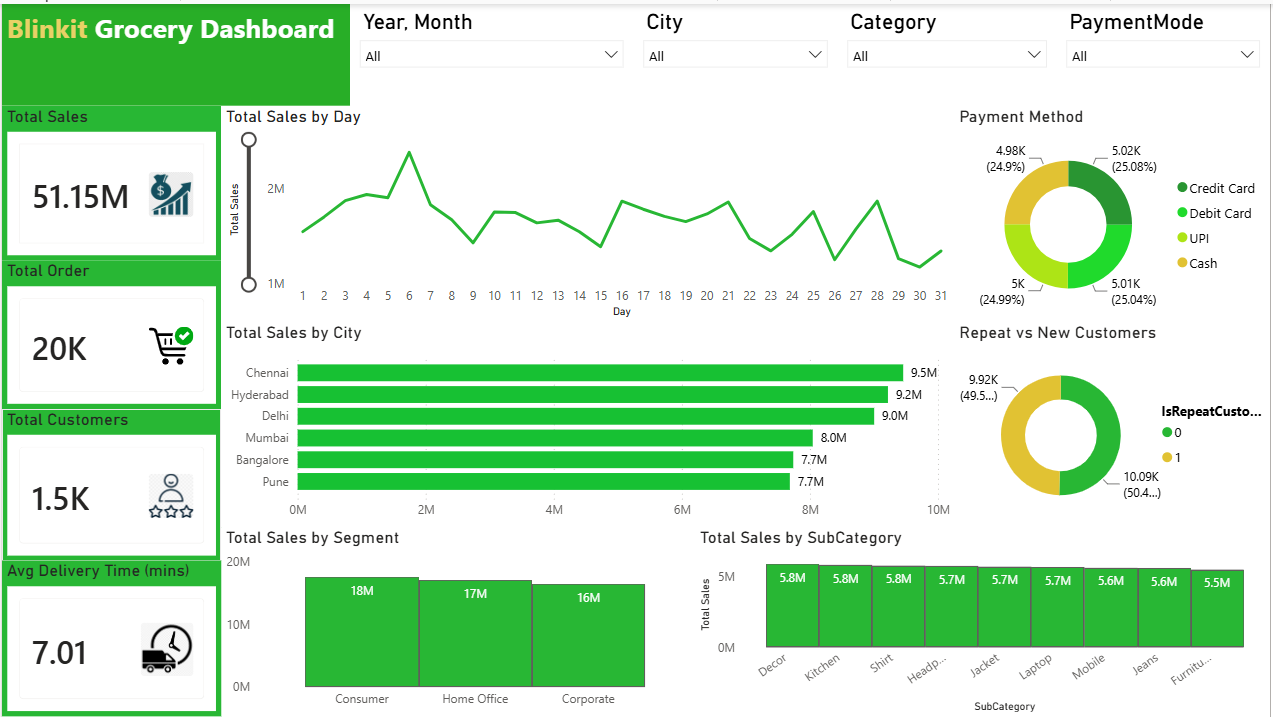

The page's visual inventory and layout, read from the dashboard file:
{"tool":"powerbi","page":{"name":"Page 1","canvas":[1280,720],"ordinal":0},"visuals":[{"type":"textbox","box":[0,0,351.3,103],"z":0},{"type":"slicer","fields":{"Values":["dim_date.Date.Variation.Date Hierarchy.Year","dim_date.Date.Variation.Date Hierarchy.Month"]},"box":[351.3,0,286.2,103],"z":1000},{"type":"slicer","fields":{"Values":["fact_orders.City"]},"box":[637.5,0,205.9,103],"z":2000},{"type":"slicer","fields":{"Values":["fact_orders.Category"]},"box":[843.4,0,221.1,103],"z":3000},{"type":"slicer","fields":{"Values":["fact_orders.PaymentMode"]},"box":[1064.5,0,215,103],"z":4000},{"type":"cardVisual","title":"Total Order","fields":{"Data":["CountNonNull(fact_orders.OrderID)"]},"box":[0,258.9,221.1,149.9],"z":5000},{"type":"cardVisual","title":"Total Customers","fields":{"Data":["CountNonNull(dim_customers.CustomerID)"]},"box":[0,408.8,221.1,152.9],"z":6000},{"type":"cardVisual","title":"Total Sales","fields":{"Data":["dim_customers.Total Sales"]},"box":[0,103,221.1,156],"z":7000},{"type":"lineChart","fields":{"Y":["dim_customers.Total Sales"],"Category":["dim_customers.Date.Variation.Date Hierarchy.Day"]},"box":[221.1,103,740.4,218],"z":8000},{"type":"clusteredColumnChart","fields":{"Y":["dim_customers.Total Sales"],"Category":["fact_orders.SubCategory"]},"box":[699.6,528.5,579.9,190.8],"z":9000},{"type":"donutChart","title":"Repeat vs New Customers","fields":{"Category":["fact_orders.IsRepeatCustomer"],"Y":["CountNonNull(fact_orders.OrderID)"]},"box":[961.5,321,318,207.4],"z":10000},{"type":"donutChart","title":"Payment Method","fields":{"Category":["fact_orders.PaymentMode"],"Y":["CountNonNull(fact_orders.OrderID)"]},"box":[961.5,103,318,218],"z":11000},{"type":"clusteredBarChart","fields":{"Y":["dim_customers.Total Sales"],"Category":["dim_customers.City"]},"box":[221.1,321,740.4,207.4],"z":12000},{"type":"clusteredColumnChart","fields":{"Category":["dim_customers.Segment"],"Y":["dim_customers.Total Sales"]},"box":[221.1,528.5,478.5,190.8],"z":13000},{"type":"cardVisual","title":"Avg Delivery Time (mins)","fields":{"Data":["Avg(fact_orders.DeliveryTime)"]},"box":[0,561.8,221.1,157.5],"z":14000}]}

Visuals, with their boxes in screenshot pixels (x1, y1, x2, y2), scaled from the page's 1280x720 canvas onto the 1273x717 screenshot:
textbox: (left=0, top=0, right=349, bottom=103)
slicer - dim_date.Date.Variation.Date Hierarchy.Year x dim_date.Date.Variation.Date Hierarchy.Month: (left=349, top=0, right=634, bottom=103)
slicer - fact_orders.City: (left=634, top=0, right=839, bottom=103)
slicer - fact_orders.Category: (left=839, top=0, right=1059, bottom=103)
slicer - fact_orders.PaymentMode: (left=1059, top=0, right=1272, bottom=103)
"Total Order" cardVisual: (left=0, top=258, right=220, bottom=407)
"Total Customers" cardVisual: (left=0, top=407, right=220, bottom=559)
"Total Sales" cardVisual: (left=0, top=103, right=220, bottom=258)
lineChart - dim_customers.Total Sales x dim_customers.Date.Variation.Date Hierarchy.Day: (left=220, top=103, right=956, bottom=320)
clusteredColumnChart - dim_customers.Total Sales x fact_orders.SubCategory: (left=696, top=526, right=1272, bottom=716)
"Repeat vs New Customers" donutChart: (left=956, top=320, right=1272, bottom=526)
"Payment Method" donutChart: (left=956, top=103, right=1272, bottom=320)
clusteredBarChart - dim_customers.Total Sales x dim_customers.City: (left=220, top=320, right=956, bottom=526)
clusteredColumnChart - dim_customers.Segment x dim_customers.Total Sales: (left=220, top=526, right=696, bottom=716)
"Avg Delivery Time (mins)" cardVisual: (left=0, top=559, right=220, bottom=716)
